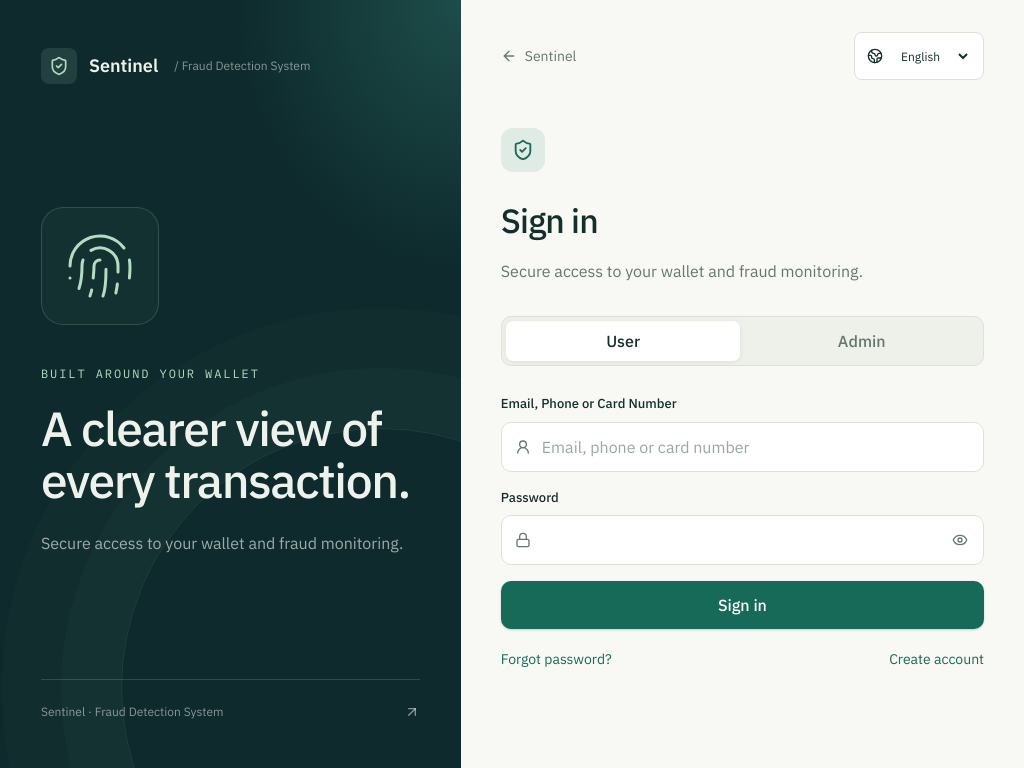
Test case: Login › shows and hides the password with the eye toggle
In the password field labelled "Password": (742, 540) top-left (501, 515), bottom-right (984, 565), type "secret123"
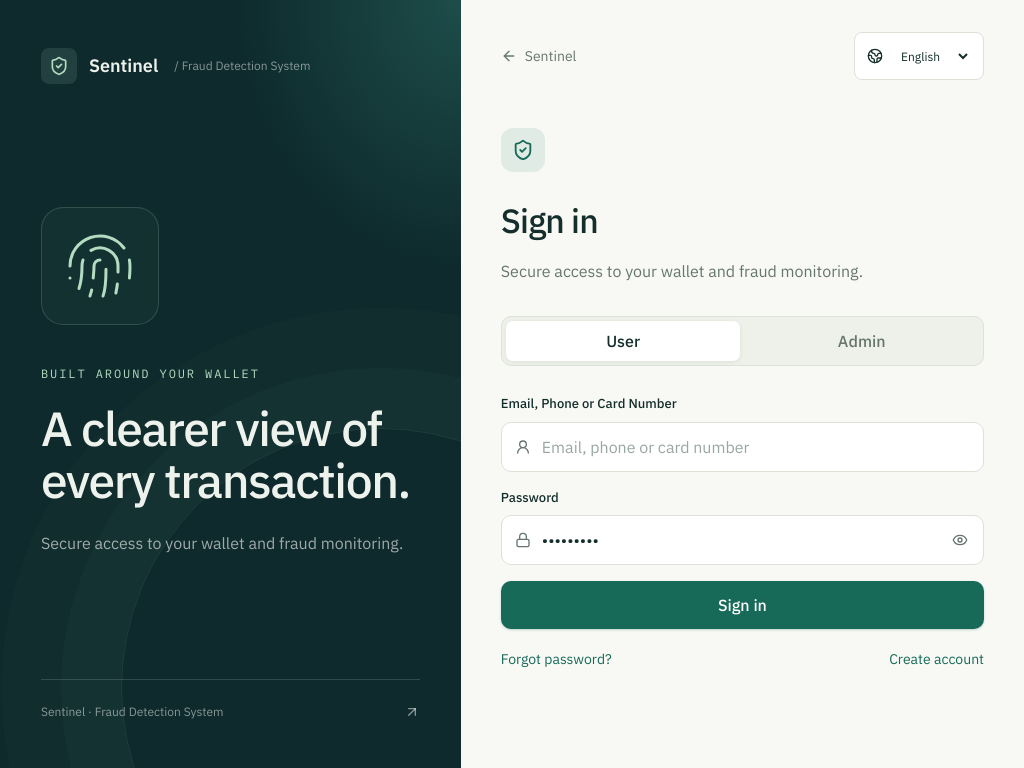
Click the button named "Show password": (960, 540) top-left (944, 524), bottom-right (976, 556)
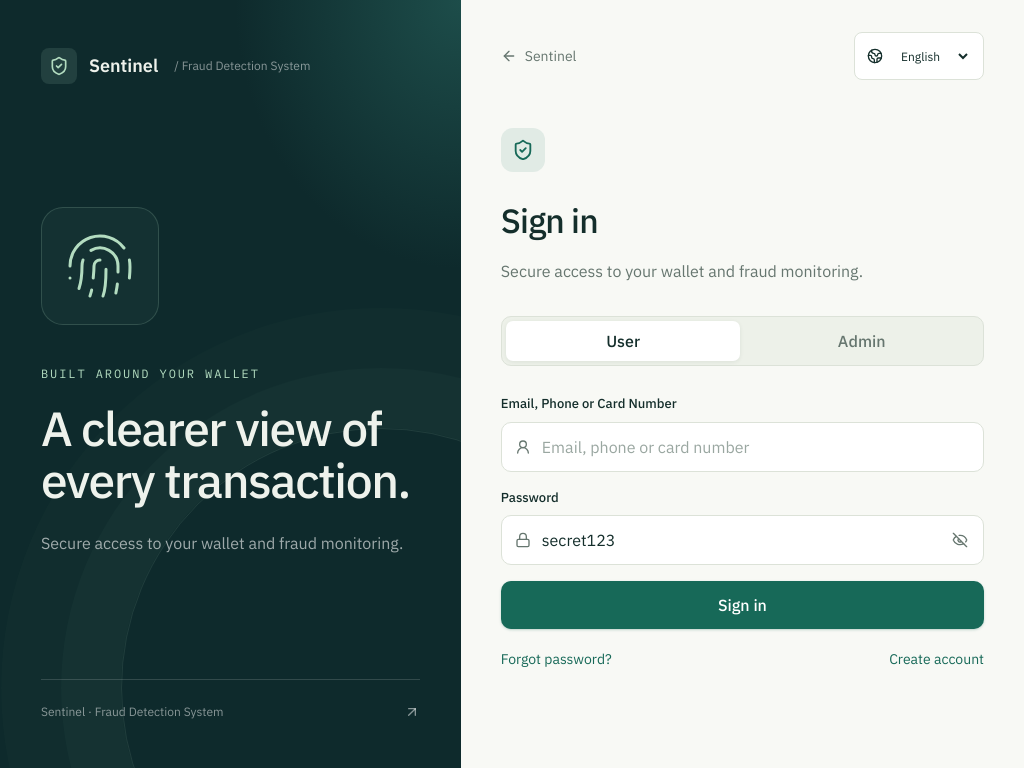
Now the field labelled "Password" shows its text, box top-left (501, 515), bottom-right (984, 565)
Click the button named "Hide password": (960, 540) top-left (944, 524), bottom-right (976, 556)
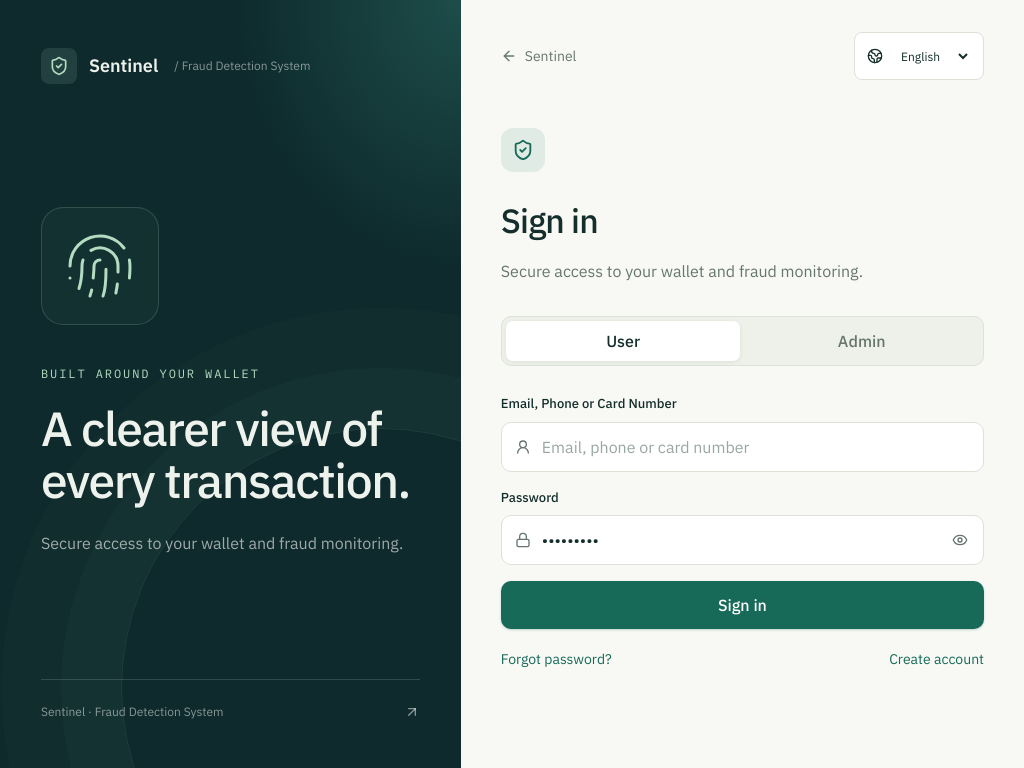
Now the password field labelled "Password" hides its text, box top-left (501, 515), bottom-right (984, 565)
